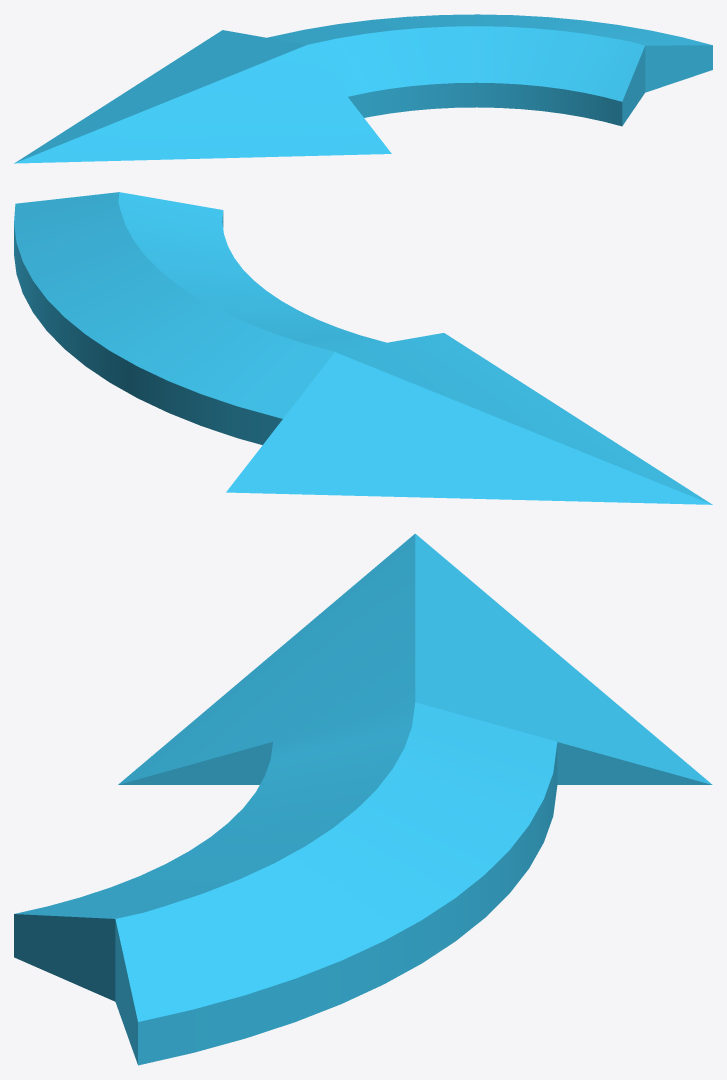
File: Left.glb
3 renders of one model, top to bottom at view 1: azimuth 30°, elevation 25°; view 2: azimuth 150°, elevation 25°; view 3: azimuth 270°, elevation 25°, orthographic. The views are drawn at different scales.
Visible parts, largest first — view 1: Left; view 2: Left; view 3: Left.
Part boxes in pixels (x1,y1,x2,y2): Left: [14, 14, 712, 163]; Left: [14, 192, 712, 504]; Left: [14, 533, 712, 1065].
Size of the model in its own units: 4.23 by 0.307 by 2.35.
